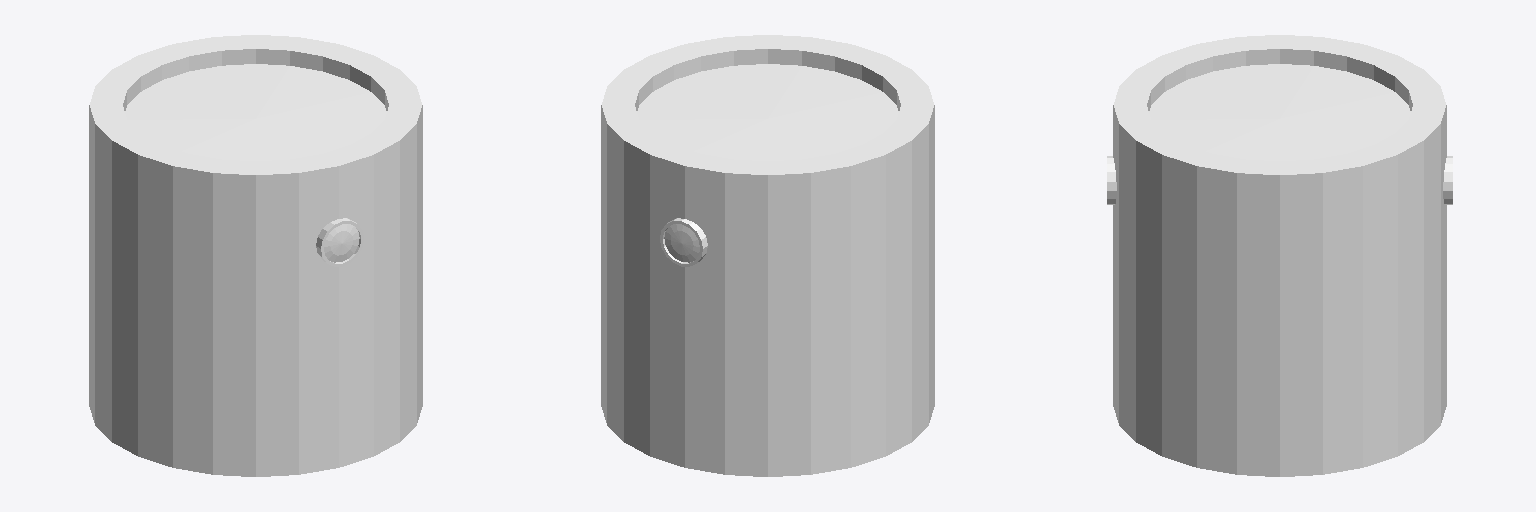
File: aquila_crew_s1_1_1.obj
3 views of the same model, side by side, from view 1: azimuth 30°, elevation 25°; view 2: azimuth 150°, elevation 25°; view 3: azimuth 270°, elevation 25° (orthographic).
Parts seen in each view (by area): view 1: aquila_crew_s1_1_1, aquila_crew_s1_1_1_window_copy7; view 2: aquila_crew_s1_1_1, aquila_crew_s1_1_1_window; view 3: aquila_crew_s1_1_1.
Part boxes in pixels (left/top/right/bottom): aquila_crew_s1_1_1: left=89, top=35, right=422, bottom=476; aquila_crew_s1_1_1_window_copy7: left=324, top=224, right=359, bottom=262; aquila_crew_s1_1_1: left=601, top=35, right=934, bottom=476; aquila_crew_s1_1_1_window: left=664, top=224, right=699, bottom=262; aquila_crew_s1_1_1: left=1107, top=35, right=1452, bottom=476.
Bounding box in the file's own units: 1.25 × 1.25 × 1.3.